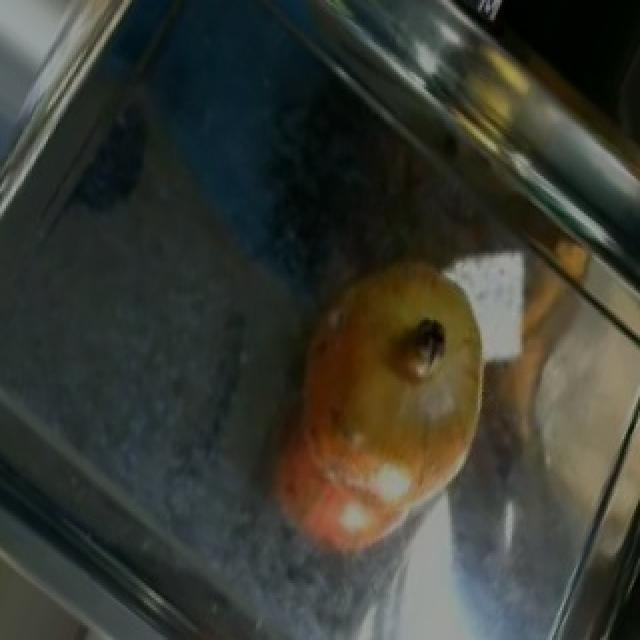fruit: (264, 228, 528, 534)
